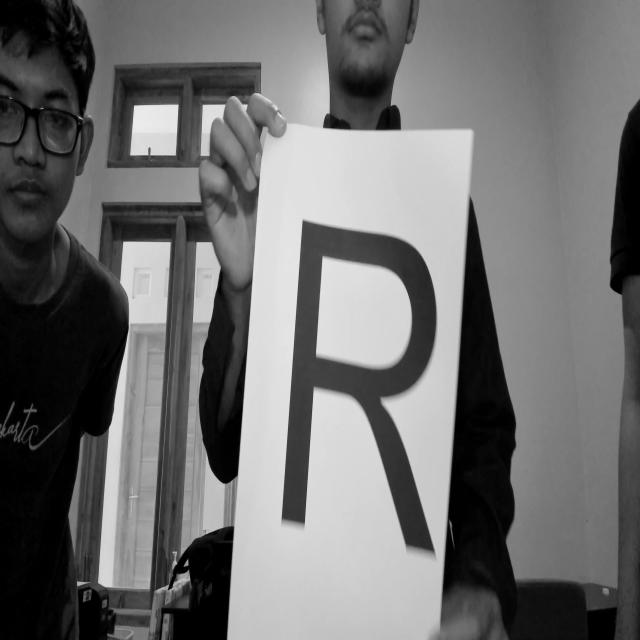r: (282, 206, 449, 587)
